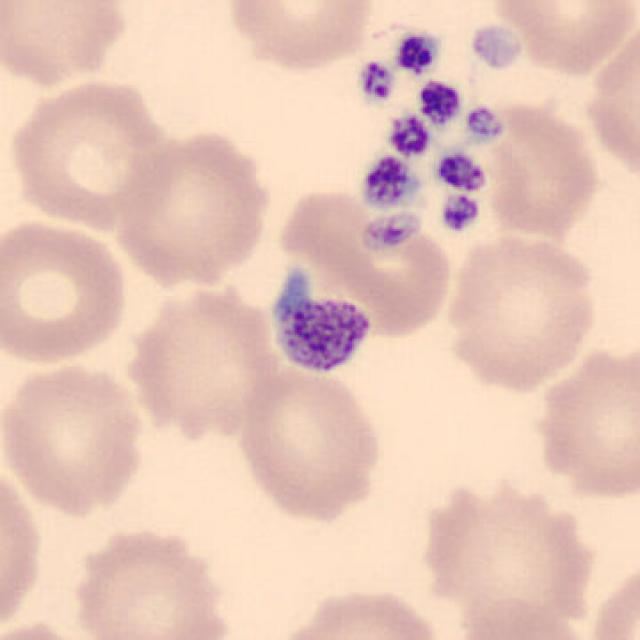Platelets: (265, 266, 377, 381), (358, 155, 420, 212), (468, 19, 524, 72), (361, 210, 421, 254), (434, 148, 489, 194), (391, 28, 441, 76), (416, 78, 464, 127), (354, 56, 398, 108), (386, 114, 434, 158), (462, 102, 507, 146), (438, 192, 483, 235)
RBC: (267, 184, 457, 346), (412, 472, 602, 628), (3, 74, 182, 235), (439, 227, 603, 395), (110, 125, 276, 289), (231, 356, 388, 526), (0, 356, 149, 520), (460, 94, 604, 244), (0, 213, 133, 370), (68, 522, 236, 640), (526, 335, 640, 506), (0, 0, 135, 90), (486, 0, 636, 78), (220, 0, 378, 74), (266, 582, 452, 640), (0, 453, 48, 640), (448, 590, 599, 640), (583, 553, 638, 640), (468, 20, 524, 70), (0, 617, 107, 640)
